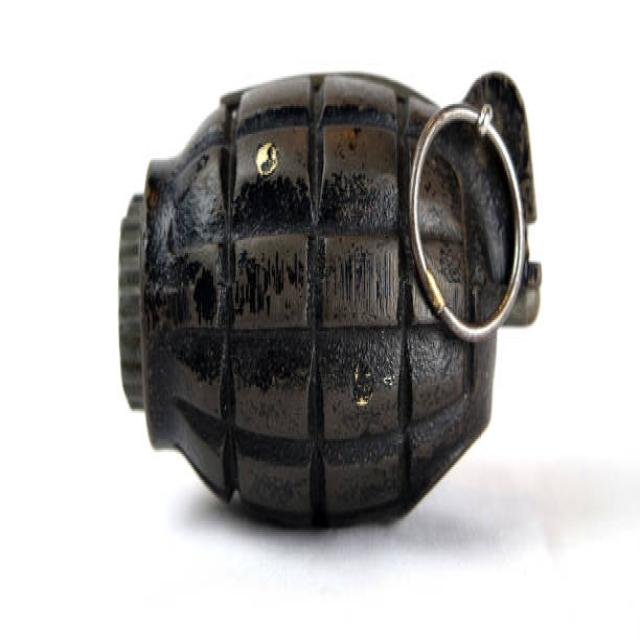grenade: (106, 46, 550, 546)
